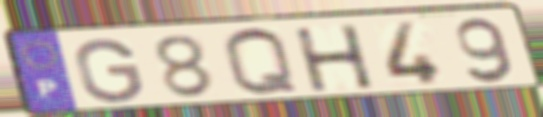4: (382, 20, 446, 88)
8: (151, 33, 215, 100)
9: (452, 15, 517, 86)
G: (73, 37, 147, 105)
H: (290, 22, 379, 94)
Q: (220, 26, 304, 99)
